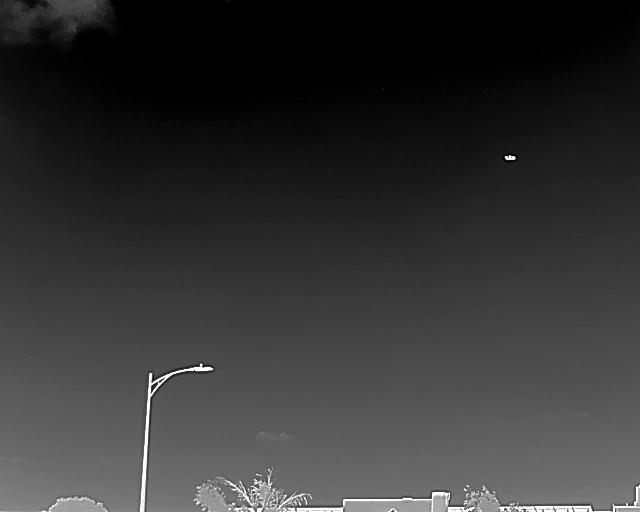fpv-drone: (503, 154, 516, 161)
